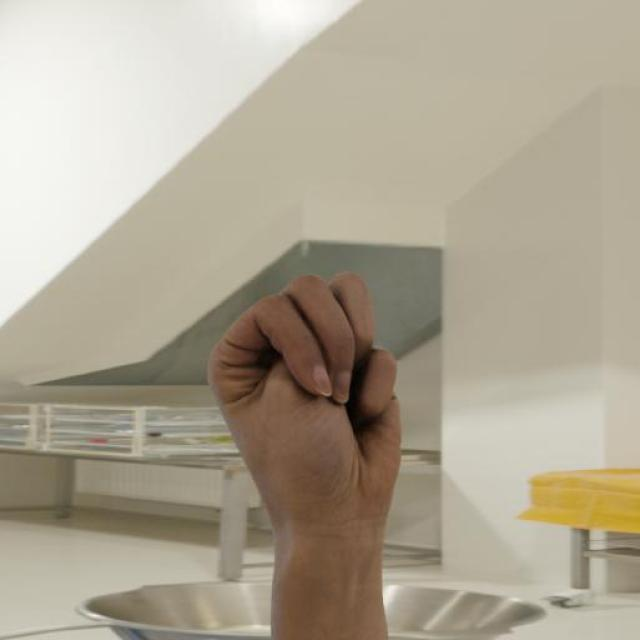M: (203, 265, 406, 533)
